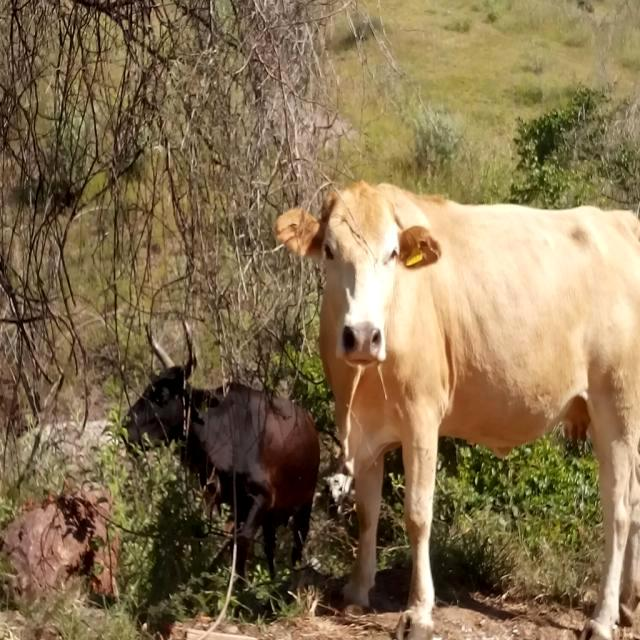COW: (275, 182, 640, 640), (126, 368, 320, 576)
